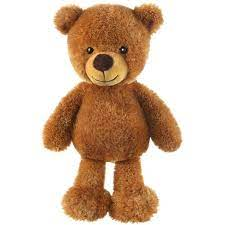teddy: (27, 1, 191, 223)
